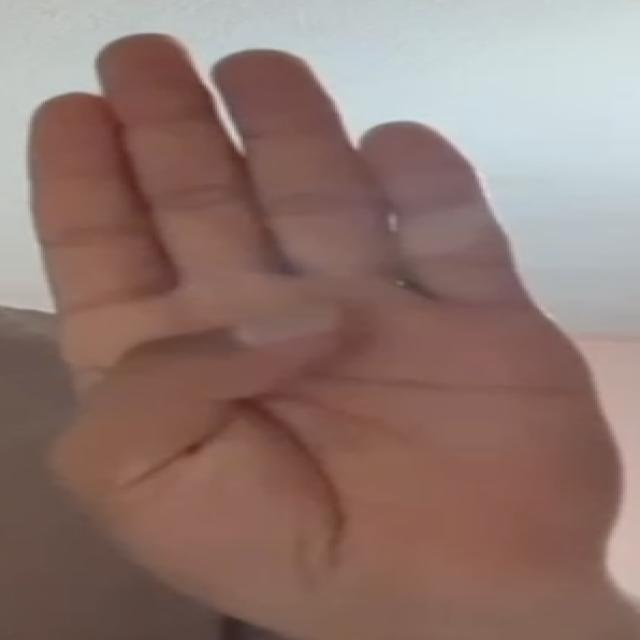B: (19, 18, 626, 619)
